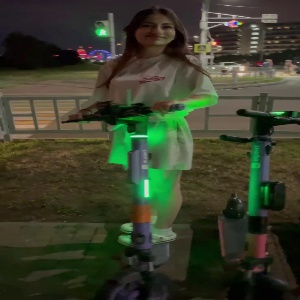human on a scooter: (61, 1, 219, 300)
